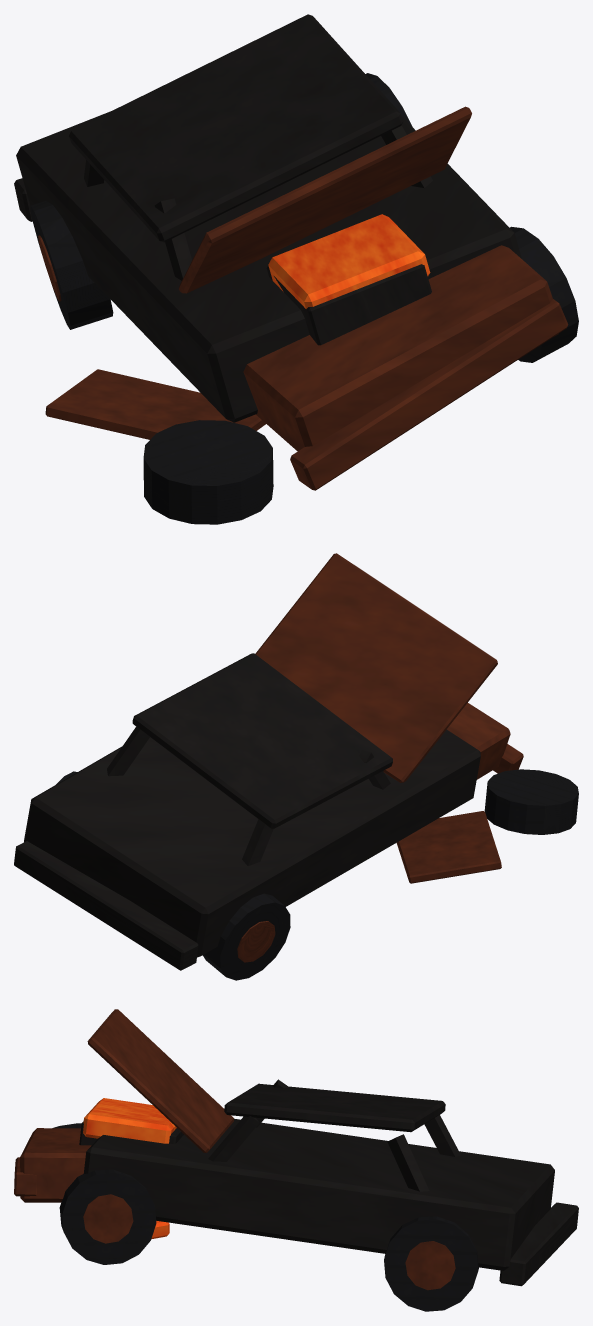
Rendered from Landmark_BurningWreck.fbx.
3 renders of one model, top to bottom at view 1: azimuth 30°, elevation 25°; view 2: azimuth 150°, elevation 25°; view 3: azimuth 270°, elevation 25°, orthographic. The views are drawn at different scales.
Visible parts, largest first — view 1: Landmark_BurningWreck_WreckBody, Landmark_BurningWreck_EngineEmber; view 2: Landmark_BurningWreck_WreckBody; view 3: Landmark_BurningWreck_WreckBody, Landmark_BurningWreck_EngineEmber.
Part boxes in pixels (x1,y1,x2,y2): Landmark_BurningWreck_WreckBody: [14, 14, 578, 524]; Landmark_BurningWreck_EngineEmber: [268, 214, 430, 308]; Landmark_BurningWreck_WreckBody: [14, 553, 578, 980]; Landmark_BurningWreck_WreckBody: [14, 1009, 578, 1311]; Landmark_BurningWreck_EngineEmber: [83, 1098, 176, 1239].
Bounding box in the file's own units: 11.33 × 8.1 × 15.21.
1 material, 1 textured.
